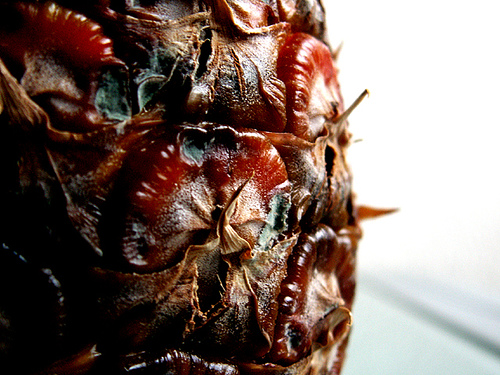pineapple: (0, 0, 402, 374)
